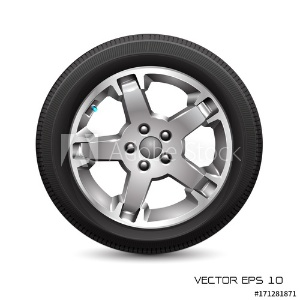tire: (36, 34, 264, 260)
